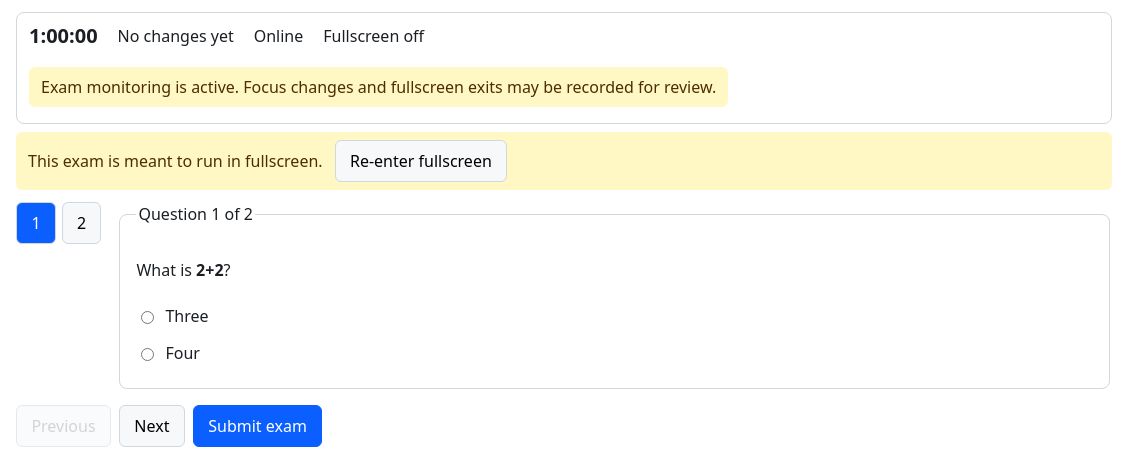
Test: B-17 web exam shell › autosaves and shows saved status; save failure is visible with retry
Click the radio button labelled "Four": click(148, 355) [142,344,154,365]
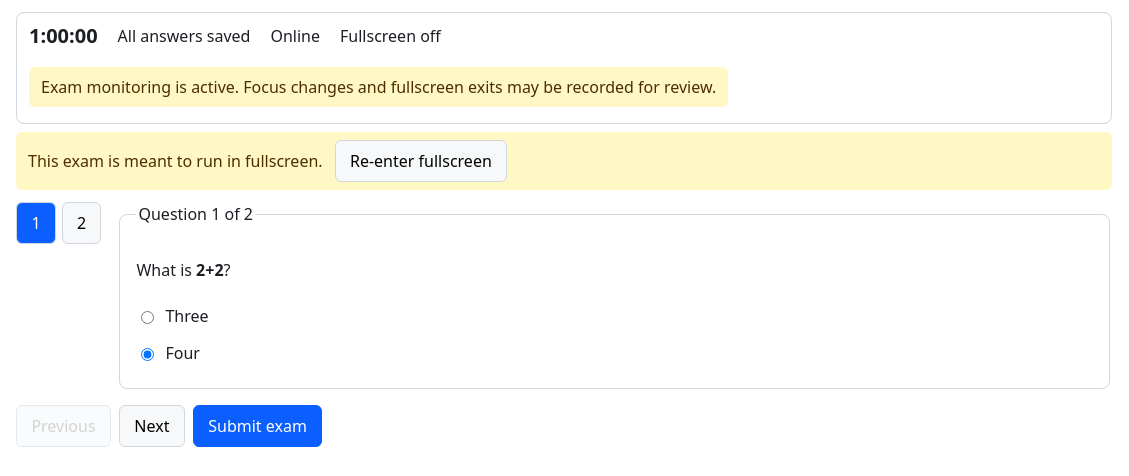
Expected: the text "All answers saved" is shown, [118,24,250,48]
Click the radio button labelled "Three": click(148, 318) [142,307,154,328]
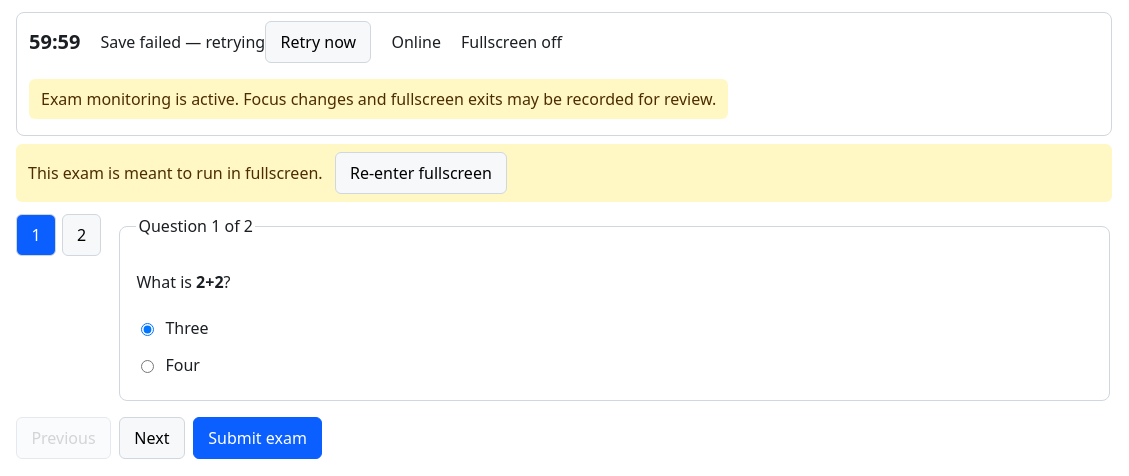
Expected: the text "Save failed — retrying Retry now" is shown, [100,21,372,63]
Expected: the button "Retry now" is shown, [265,21,372,63]
